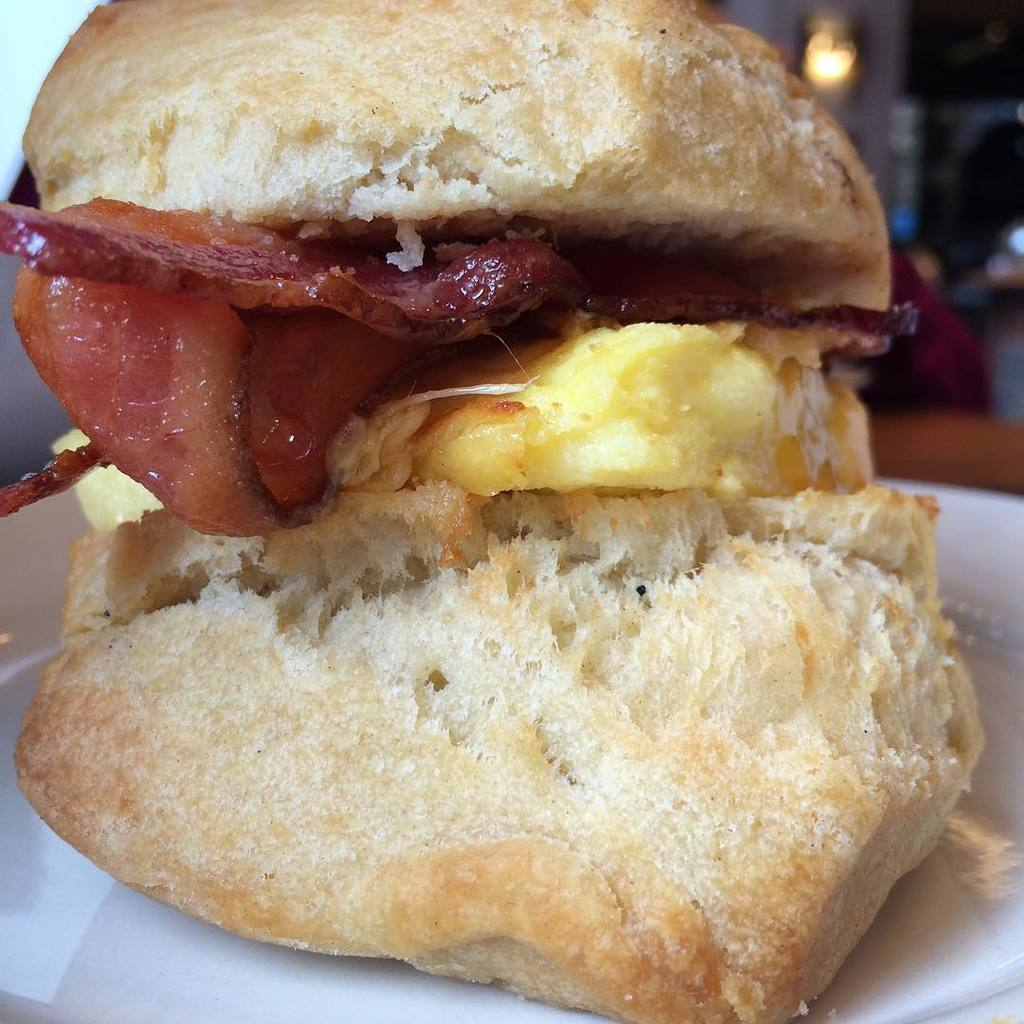Hamburger: (0, 0, 986, 1012)
